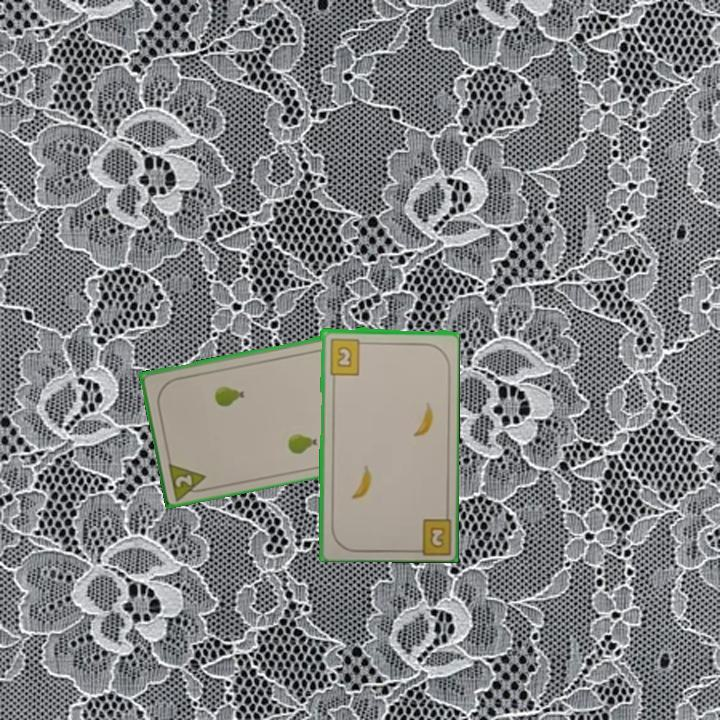2b: (326, 335, 368, 377), (426, 523, 447, 551)
2p: (165, 458, 212, 502)
